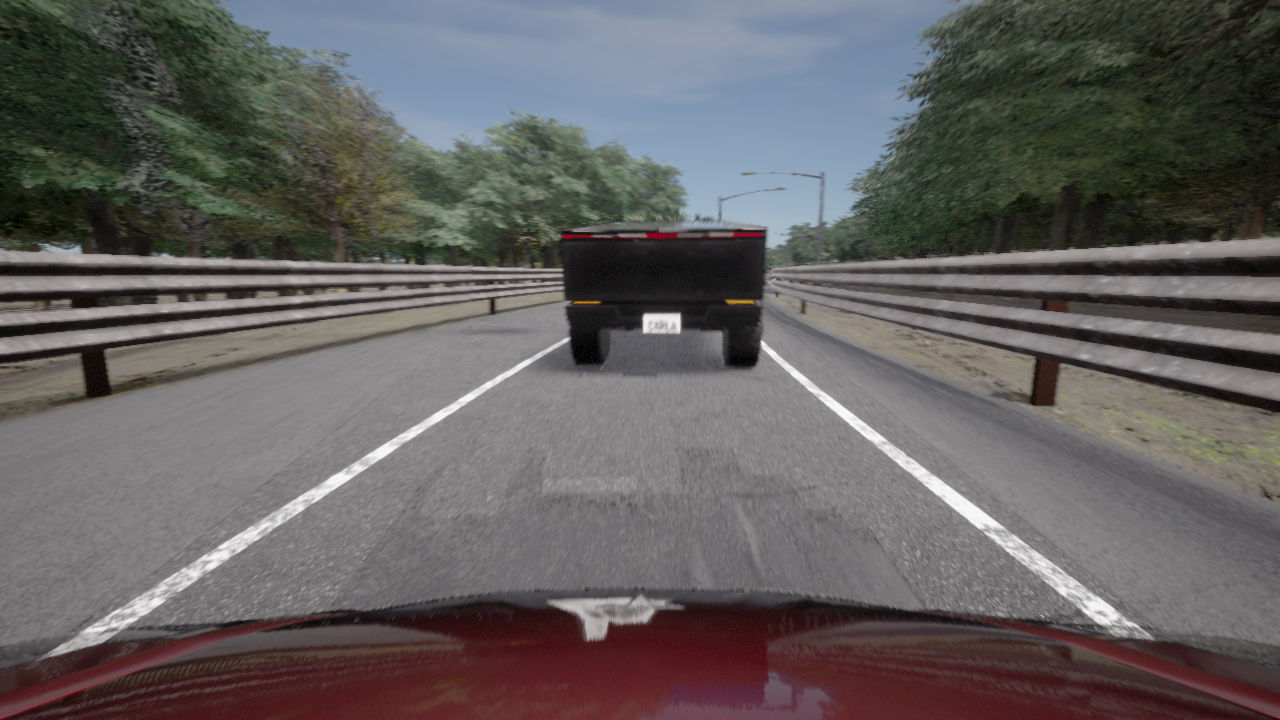cyclist: (0, 588, 1279, 719), (560, 220, 766, 366), (764, 273, 770, 285), (766, 272, 773, 278)
